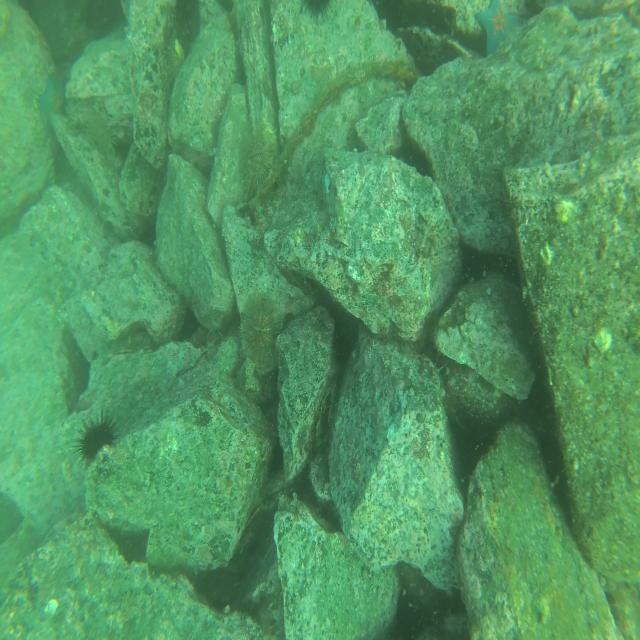echinus: (241, 299, 275, 361), (78, 418, 118, 465)
starfish: (474, 0, 518, 57)
